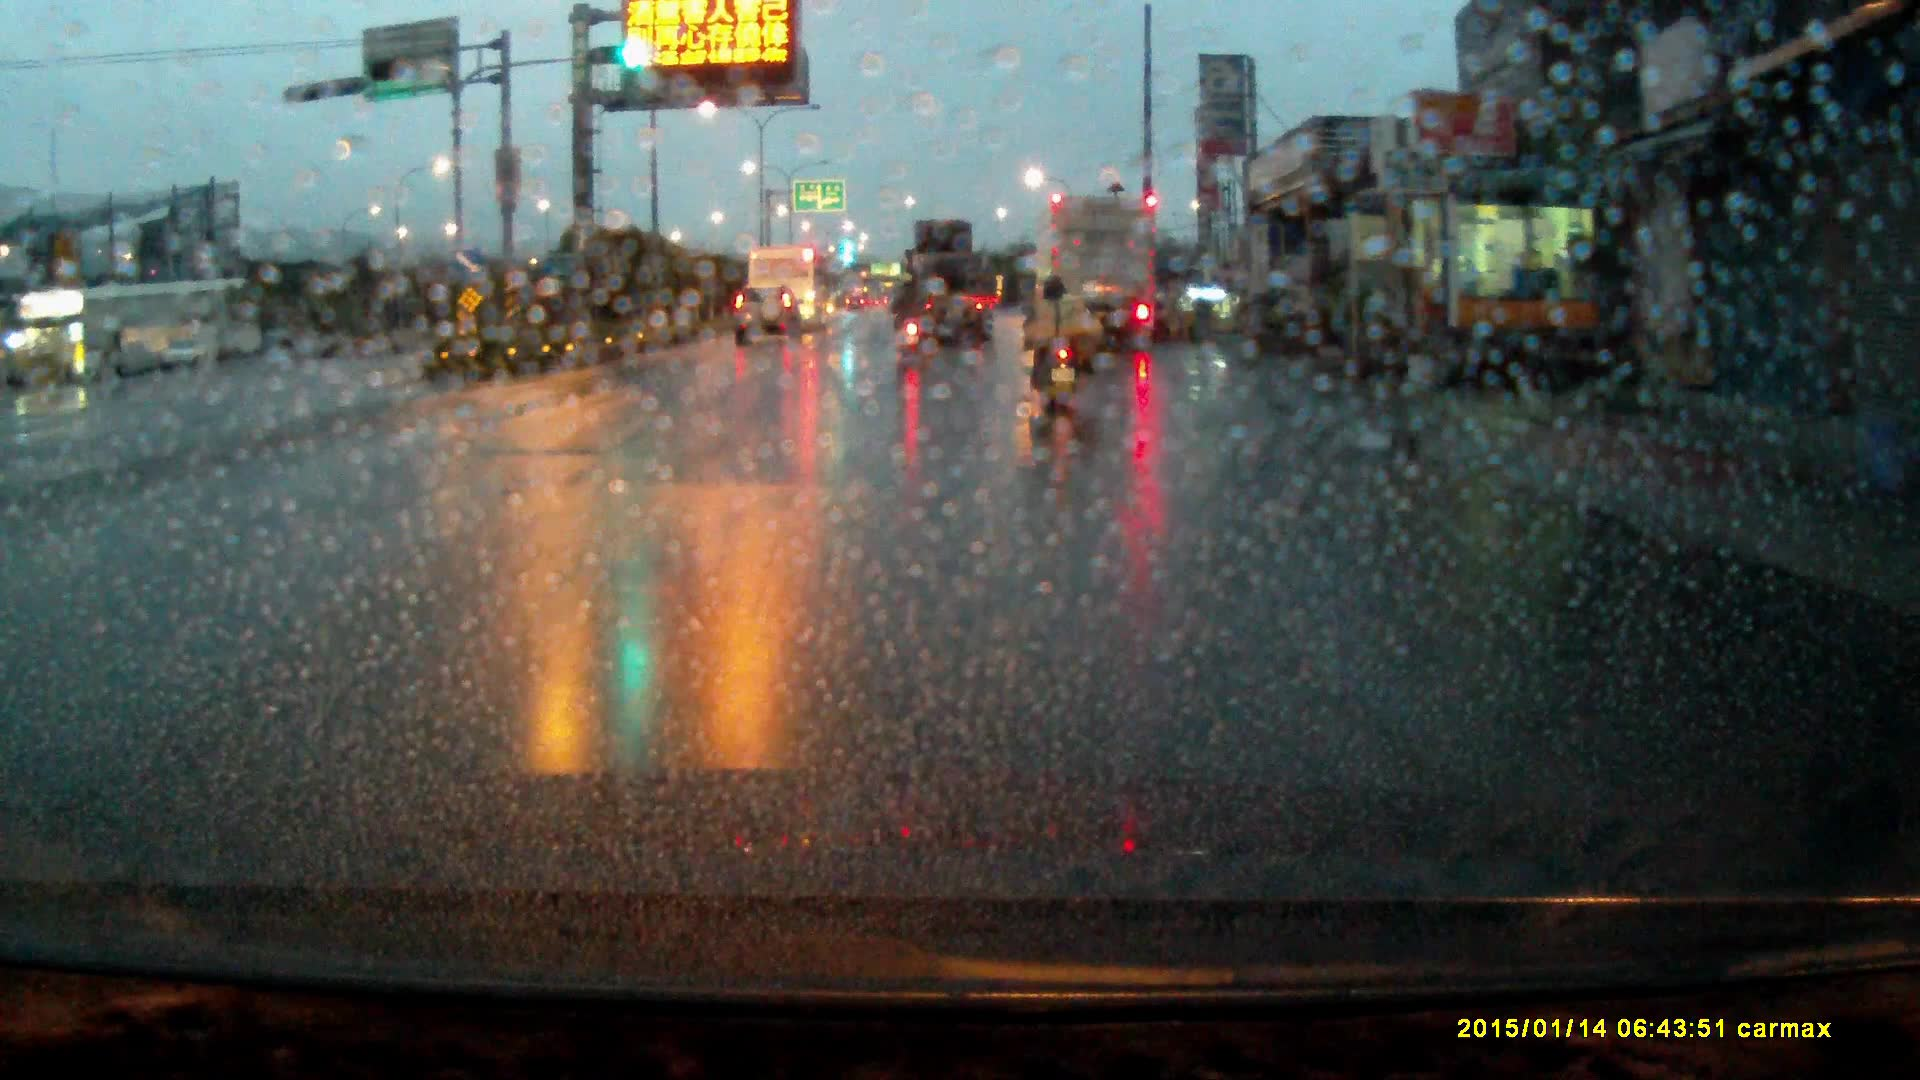rider: (1021, 274, 1097, 417), (894, 271, 932, 359)
vehicle: (1037, 206, 1159, 359), (899, 216, 999, 349), (760, 245, 834, 328), (733, 285, 805, 351)
